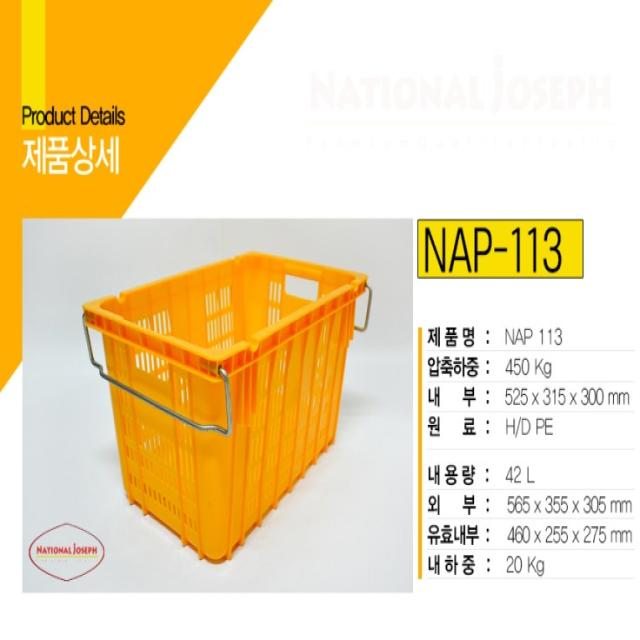basket: (71, 223, 431, 581)
